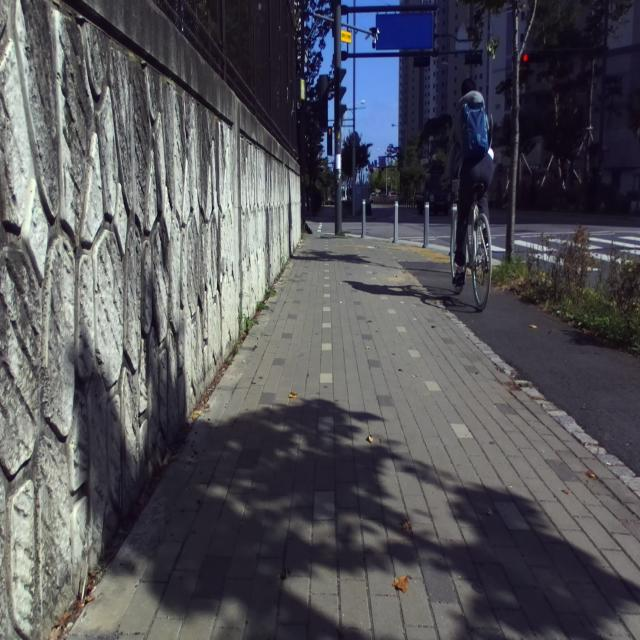빨간불: (327, 126, 332, 156)
